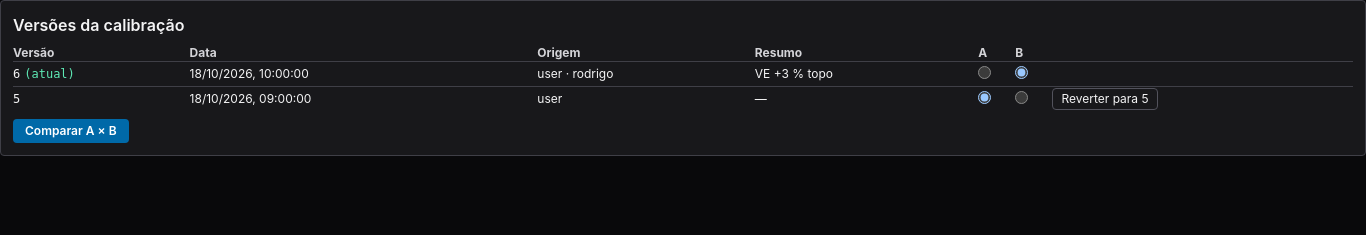
CalibrationVersions (RF-16) › estratégias entram no diff por caminho
Click the button "Comparar A × B" at coordinates (71, 131), box [13,119,128,143]
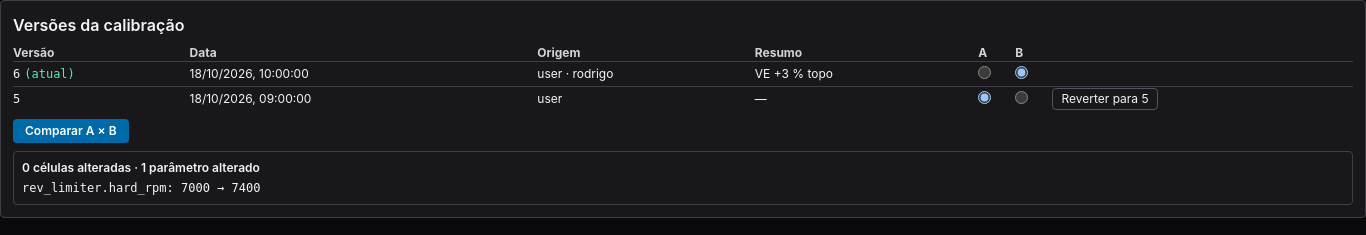
Now the list item "rev_limiter.hard_rpm: 7000 → 7400" is shown, box [22,181,260,195]
Now the text with test id "diff-summary" reads "0 células alteradas · 1 parâmetro alterado", box [22,160,260,175]
